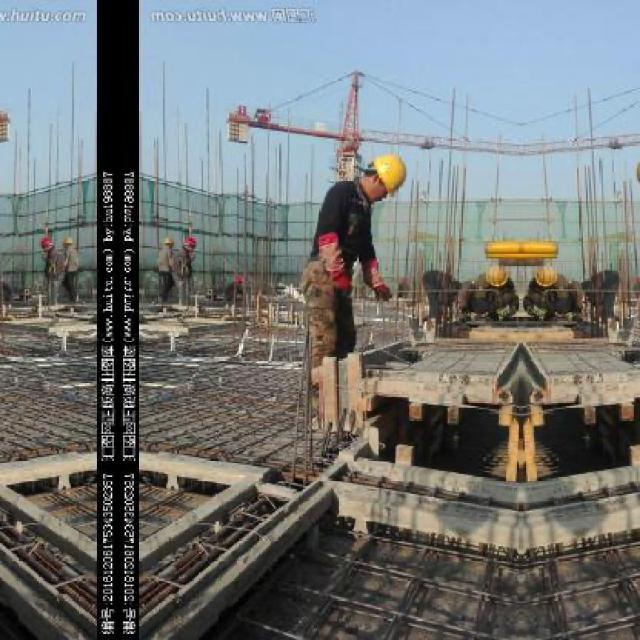con casco: (336, 147, 418, 234)
